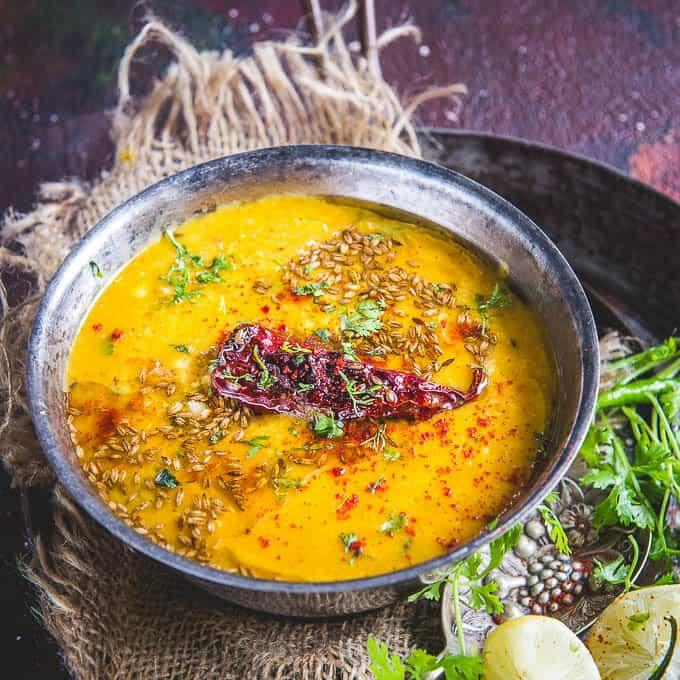Dal: (69, 197, 550, 580)
